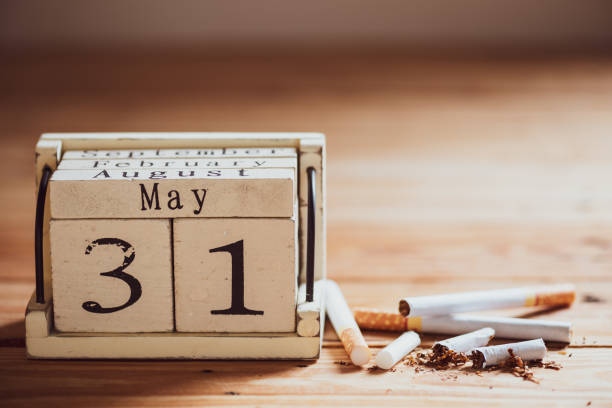cigarette: (352, 307, 572, 343), (397, 284, 575, 318), (324, 278, 372, 365), (429, 325, 495, 364), (471, 338, 548, 367), (375, 329, 422, 370)
